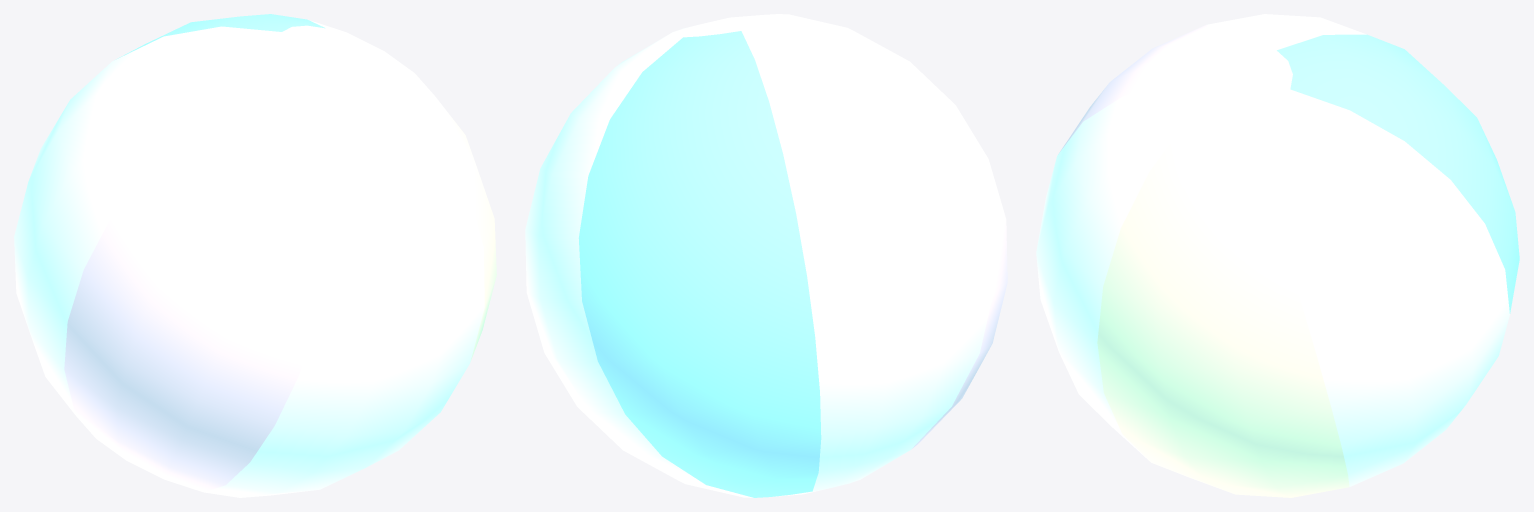
File: props__BeachBall.glb
3 views of the same model, side by side, from view 1: azimuth 30°, elevation 25°; view 2: azimuth 150°, elevation 25°; view 3: azimuth 270°, elevation 25° (orthographic).
Visible parts, largest first — view 1: BeachBall.001; view 2: BeachBall.001; view 3: BeachBall.001.
Boxes of the visible parts, x1,y1,x2,y2 form: BeachBall.001: (14, 14, 496, 497); BeachBall.001: (525, 14, 1007, 497); BeachBall.001: (1036, 14, 1519, 497).
Bounding box in the file's own units: 2.57 × 2.59 × 2.59.
